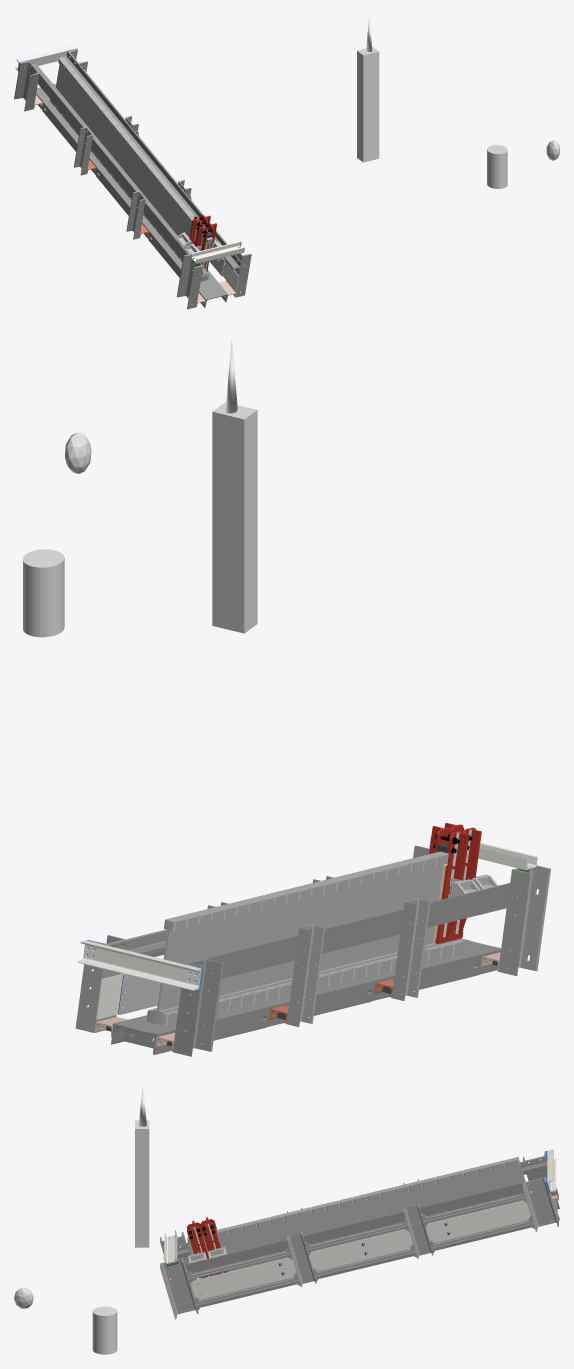
3 renders of one model, top to bottom at view 1: azimuth 30°, elevation 25°; view 2: azimuth 150°, elevation 25°; view 3: azimuth 270°, elevation 25°, orthographic. The views are drawn at different scales.
Parts seen in each view (by area): view 1: Mesh_4, Cube.001, guiderail_2, guiderail_1, Mesh_230, Cylinder, Mesh_227, Mesh_239, Mesh_229, Mesh_228, Mesh_140, Mesh_141; view 2: Cube.001, Mesh_4, guiderail_2, Mesh_230, Cylinder, Mesh_227, Mesh_140, Mesh_229, Mesh_228, Mesh_155, stator_16, stator_22 (+16 smaller); view 3: Mesh_154, guiderail_1, Cube.001, Mesh_141, Cylinder, Mesh_155, Mesh_151, Mesh_148, Mesh_4, Mesh_157, Mesh_179, Mesh_177 (+27 smaller).
Part boxes in pixels (x1=…): Mesh_4: x1=36, y1=83, x2=227, y2=307; Cube.001: x1=357, y1=47, x2=379, y2=162; guiderail_2: x1=29, y1=61, x2=208, y2=281; guiderail_1: x1=59, y1=51, x2=241, y2=271; Mesh_230: x1=176, y1=253, x2=202, y2=309; Cylinder: x1=487, y1=145, x2=507, y2=188; Mesh_227: x1=14, y1=61, x2=39, y2=111; Mesh_239: x1=191, y1=241, x2=244, y2=263; Mesh_229: x1=126, y1=191, x2=145, y2=239; Mesh_228: x1=74, y1=127, x2=93, y2=175; Mesh_140: x1=15, y1=45, x2=76, y2=70; Mesh_141: x1=226, y1=241, x2=251, y2=297; Cube.001: x1=212, y1=402, x2=257, y2=633; Mesh_4: x1=111, y1=938, x2=501, y2=1054; guiderail_2: x1=180, y1=883, x2=509, y2=988; Mesh_230: x1=498, y1=865, x2=550, y2=976; Cylinder: x1=23, y1=549, x2=64, y2=637; Mesh_227: x1=173, y1=958, x2=223, y2=1056; Mesh_140: x1=78, y1=940, x2=201, y2=990; Mesh_229: x1=392, y1=898, x2=430, y2=1000; Mesh_228: x1=287, y1=924, x2=325, y2=1026; Mesh_155: x1=75, y1=935, x2=125, y2=1032; stator_16: x1=147, y1=916, x2=186, y2=1026; stator_22: x1=258, y1=892, x2=286, y2=1001; Mesh_154: x1=191, y1=1201, x2=530, y2=1299; guiderail_1: x1=167, y1=1177, x2=545, y2=1279; Cube.001: x1=135, y1=1120, x2=149, y2=1247; Mesh_141: x1=160, y1=1258, x2=198, y2=1319; Cylinder: x1=92, y1=1306, x2=117, y2=1354; Mesh_155: x1=523, y1=1177, x2=558, y2=1231; Mesh_151: x1=287, y1=1232, x2=316, y2=1287; Mesh_148: x1=403, y1=1204, x2=432, y2=1258; Mesh_4: x1=181, y1=1198, x2=559, y2=1311; Mesh_157: x1=195, y1=1277, x2=299, y2=1306; Mesh_179: x1=187, y1=1250, x2=291, y2=1280; Mesh_177: x1=430, y1=1220, x2=533, y2=1249.
Size of the model in its own units: 24.41 by 20.64 by 34.37.
